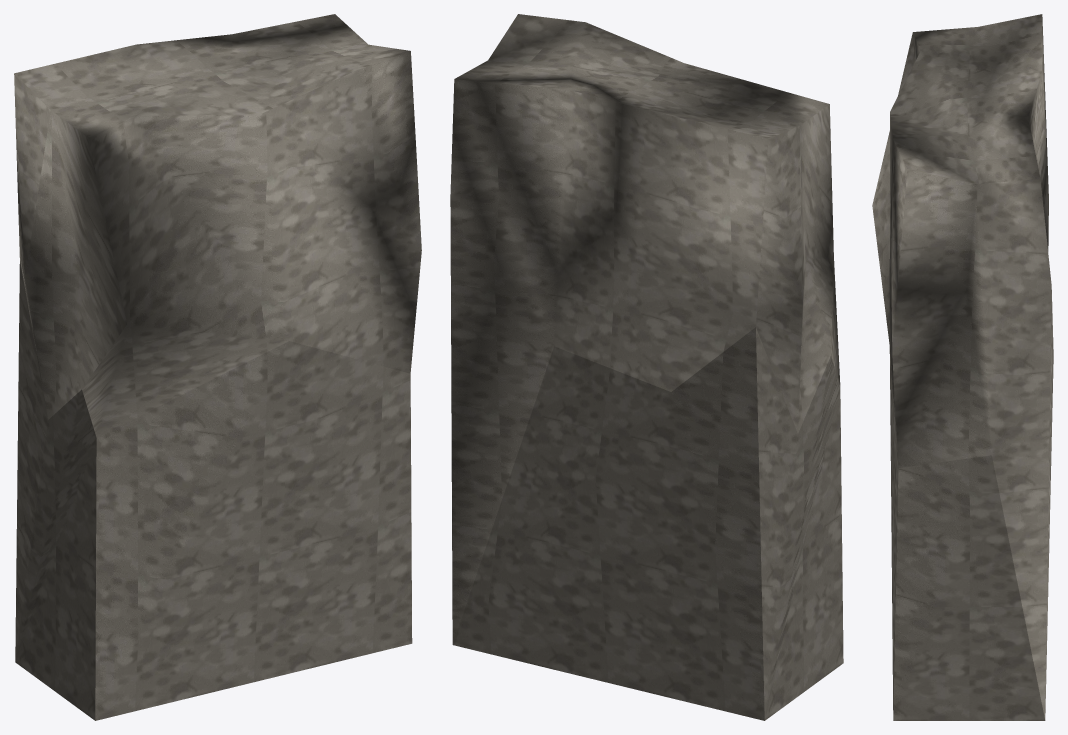
The model's file is cliff_tall_lod2.glb.
The picture shows the model from 3 angles, left to right: view 1: azimuth 30°, elevation 25°; view 2: azimuth 150°, elevation 25°; view 3: azimuth 270°, elevation 25°; orthographic projection. The views are drawn at different scales.
Visible parts, largest first — view 1: m; view 2: m; view 3: m.
Part boxes in pixels (box(x1,y1,x2,y2)): m: box(14, 14, 421, 720); m: box(450, 14, 843, 720); m: box(872, 14, 1053, 720).
Bounding box in the file's own units: 8.59 × 14.25 × 4.19.
1 material, 1 textured.
